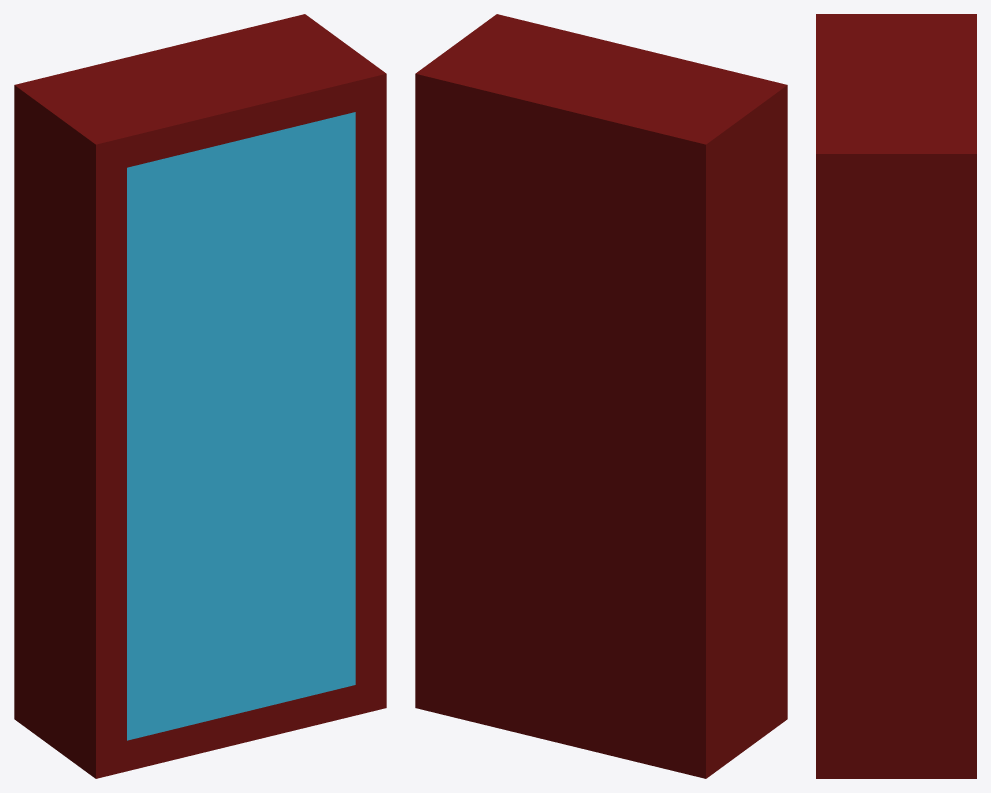
The model's file is Horror2020_AxeBox.fbx.
The picture shows the model from 3 angles, left to right: view 1: azimuth 30°, elevation 25°; view 2: azimuth 150°, elevation 25°; view 3: azimuth 270°, elevation 25°; orthographic projection.
Visible parts, largest first — view 1: AxeBox; view 2: AxeBox; view 3: AxeBox.
Boxes of the visible parts, box(x1,y1,x2,y2) form: AxeBox: box(14, 14, 386, 778); AxeBox: box(415, 14, 787, 778); AxeBox: box(816, 14, 976, 778).
Size of the model in its own units: 240 by 501 by 117.
